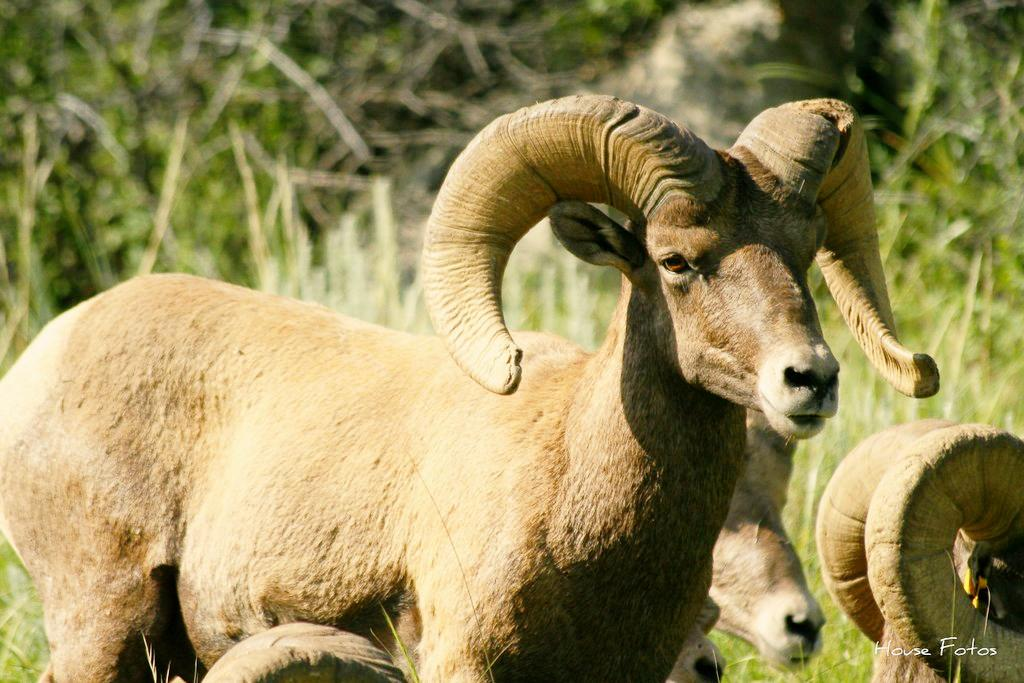Sheep: (0, 92, 939, 680), (818, 417, 1022, 680)
